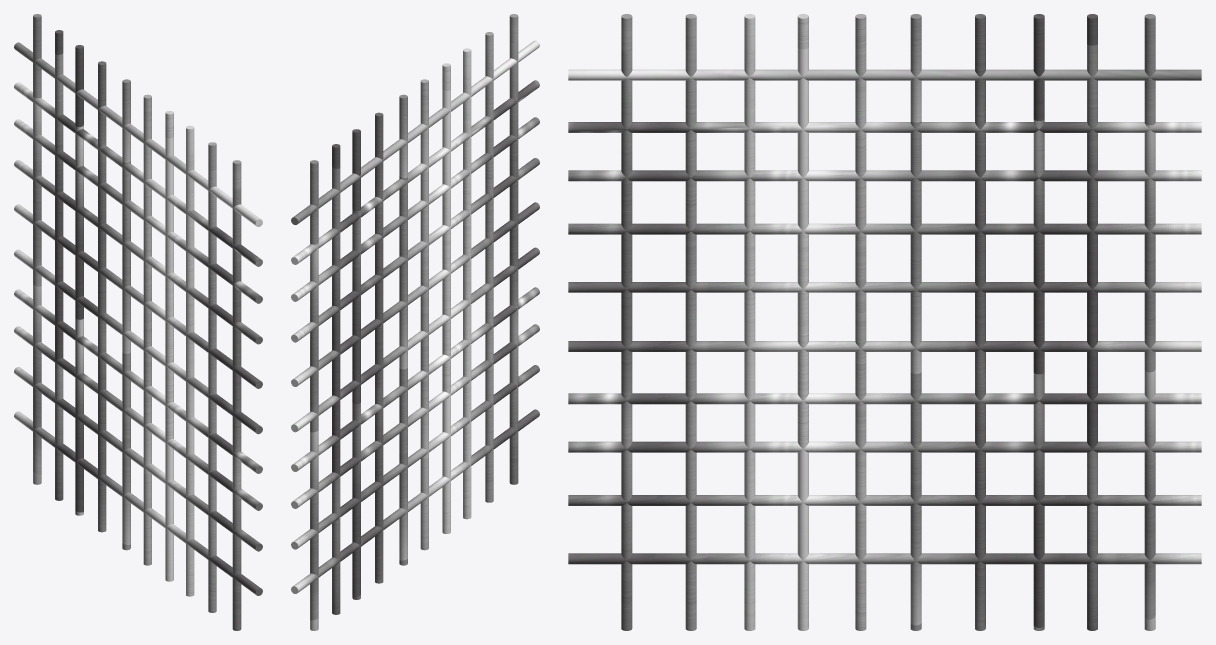
Rendered from 丈夫な金網.fbx.
3 views of the same model, side by side, from view 1: azimuth 30°, elevation 25°; view 2: azimuth 150°, elevation 25°; view 3: azimuth 270°, elevation 25° (orthographic). The views are drawn at different scales.
Parts seen in each view (by area): view 1: obj12; view 2: obj12; view 3: obj12.
Part boxes in pixels (x1,y1,x2,y2): obj12: [14, 14, 262, 630]; obj12: [291, 14, 539, 630]; obj12: [568, 14, 1201, 630].
Size of the model in its own units: 5.71 by 353 by 331.
